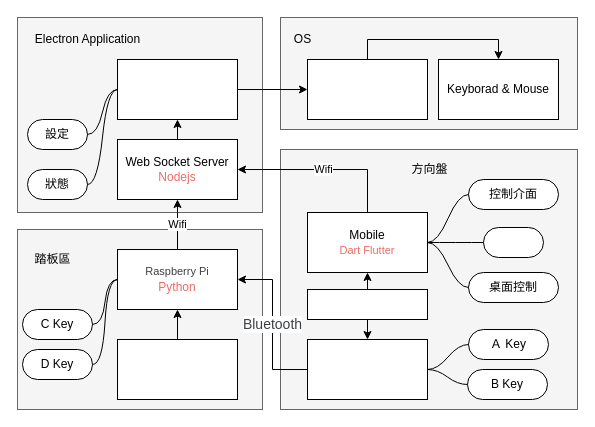
Some shapes in this 595 by 427 pixel diagram are drawn without their labels. The shapes that lost their labels are listed below. From the top down, each one's centre as x and y in pixels, then its label:
At point 177,89: "View VueJs".
At point 367,89: "Windows APIs C#".
At point 513,242: "六軸".
At point 367,304: "Power Bank".
At point 177,369: "RPI Power".
At point 367,369: "Linklt 7697 Arduino C++".
